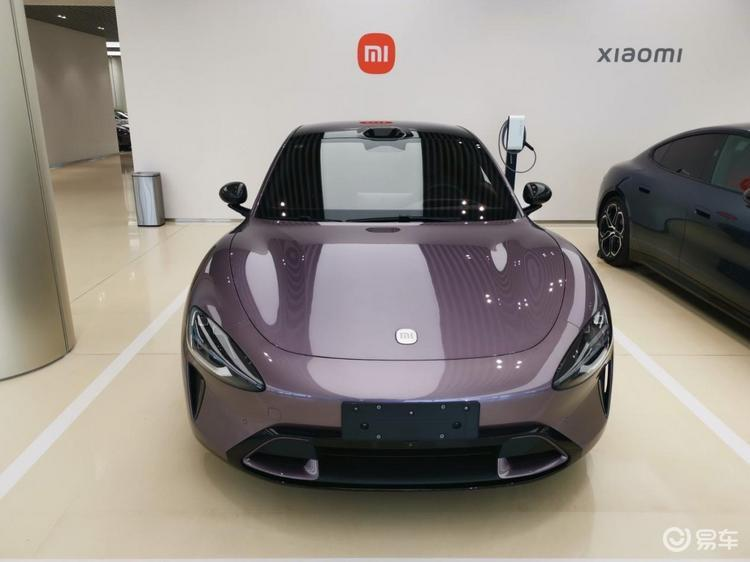su7: (173, 114, 620, 493)
